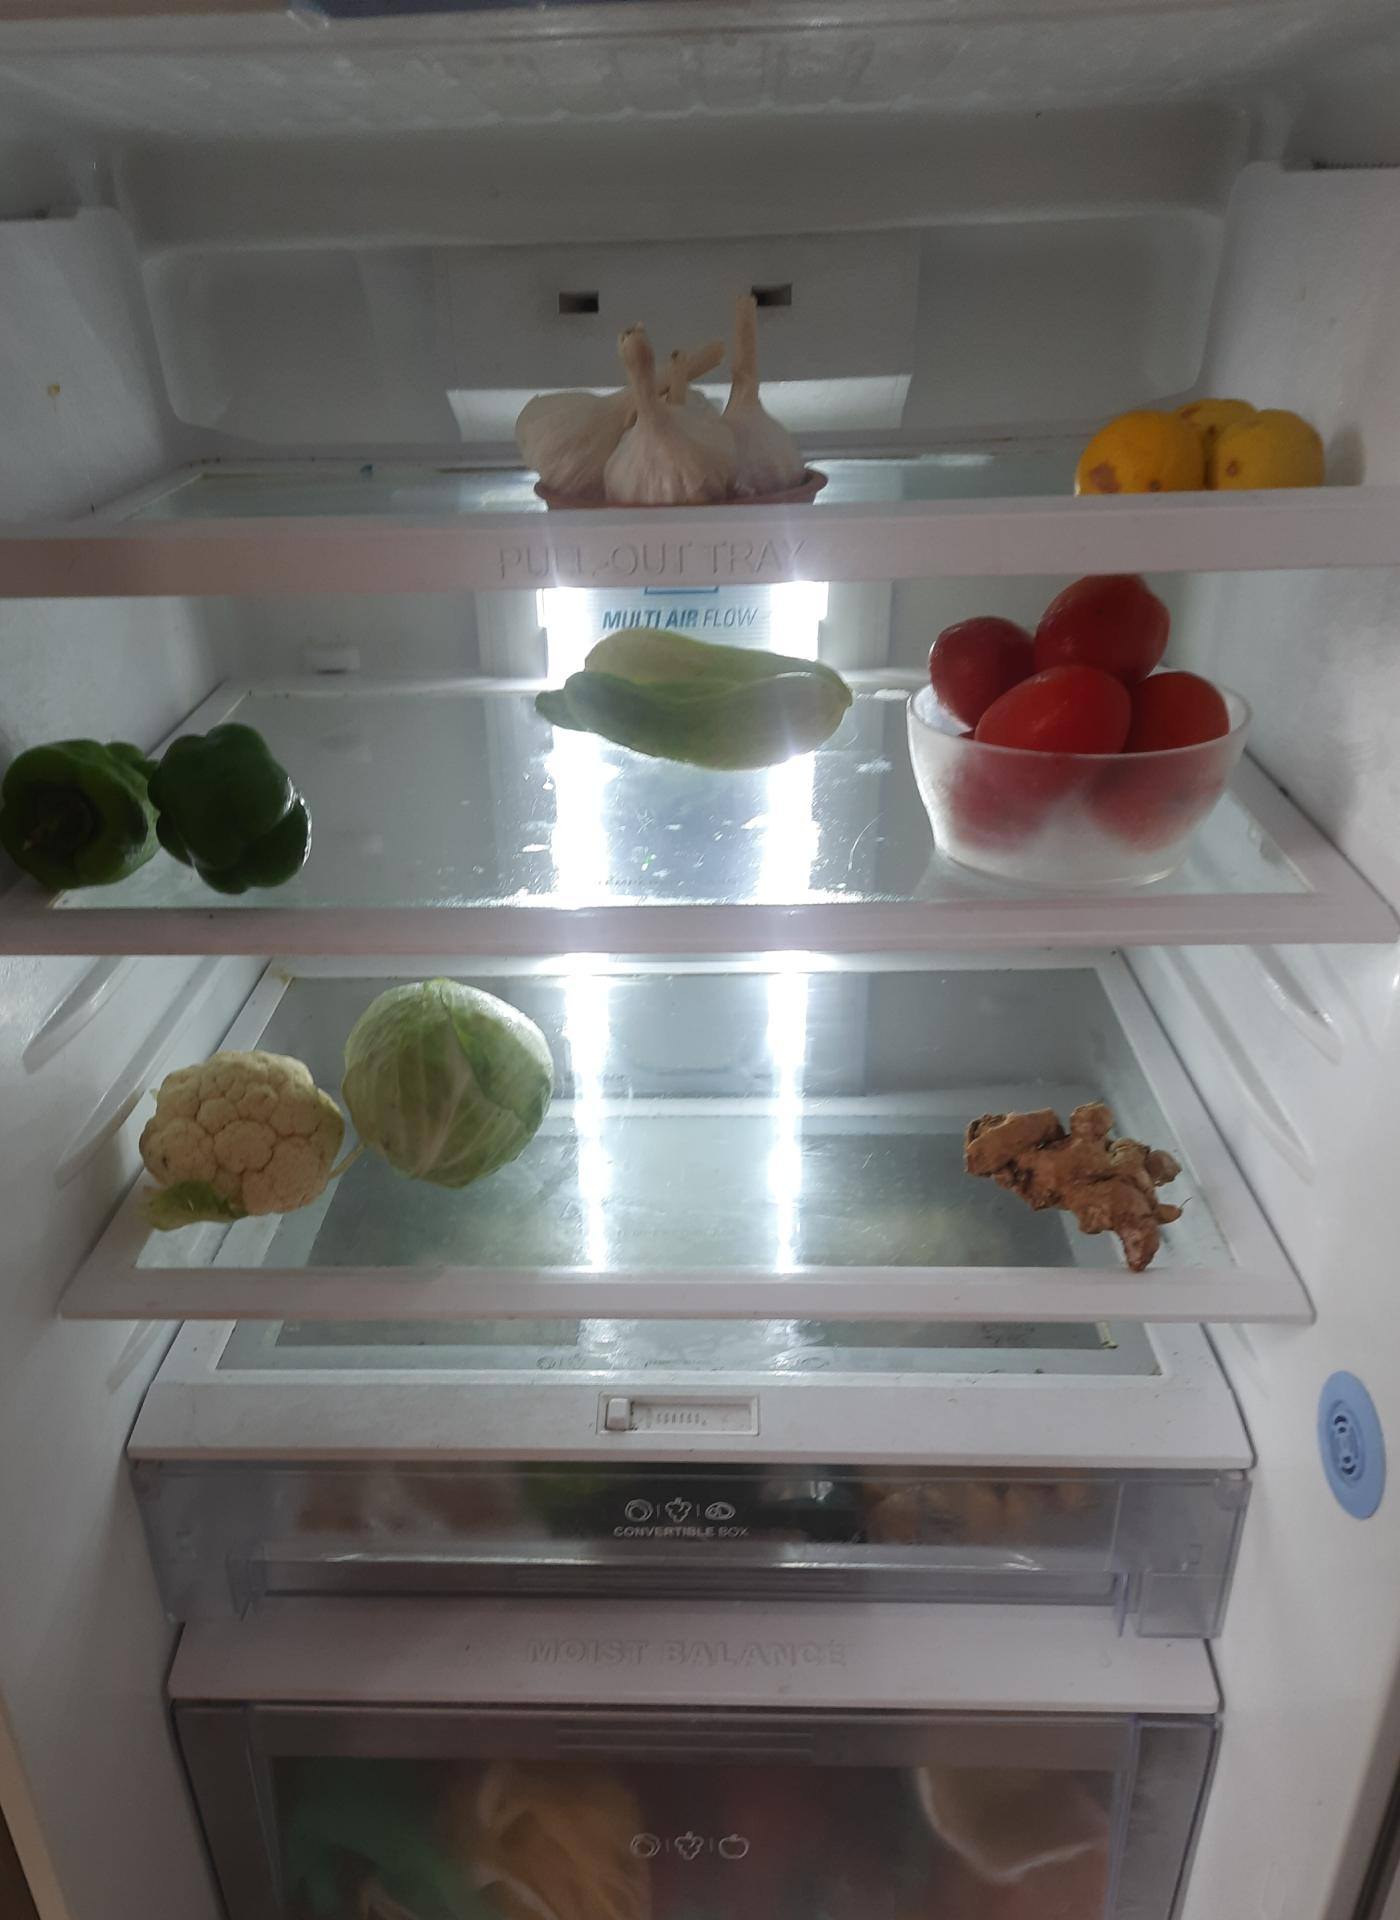cabbage: (341, 979, 558, 1182)
capsicum: (0, 723, 309, 900)
cauliflower: (137, 1046, 350, 1222)
cucumber: (534, 623, 856, 769)
garlic: (520, 280, 811, 513)
ginger: (969, 1097, 1184, 1252)
lemon: (1072, 395, 1315, 513)
tomato: (926, 563, 1227, 836)
